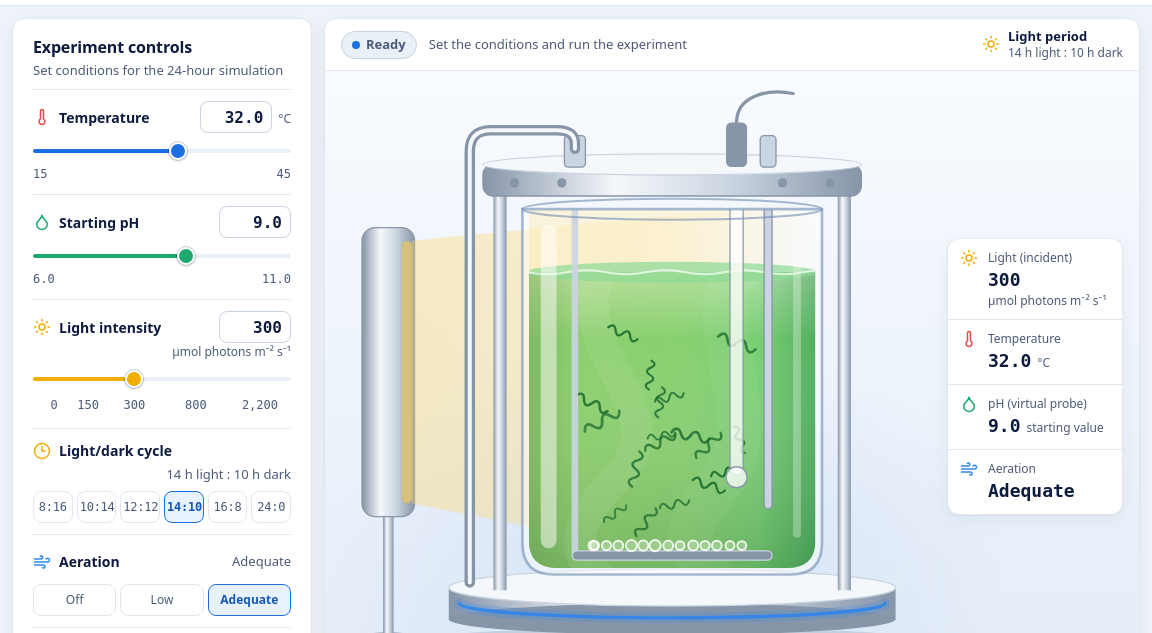
Test: experiment workspace (PRD-0002) › W4 Reset after completion returns to Ready and keeps the configured values (D-3)
Replace the text in the field named "Temperature value" with "45" at (236,117), box x1=200 y1=101 x2=272 y2=133
Then press Enter
(page scrolled)
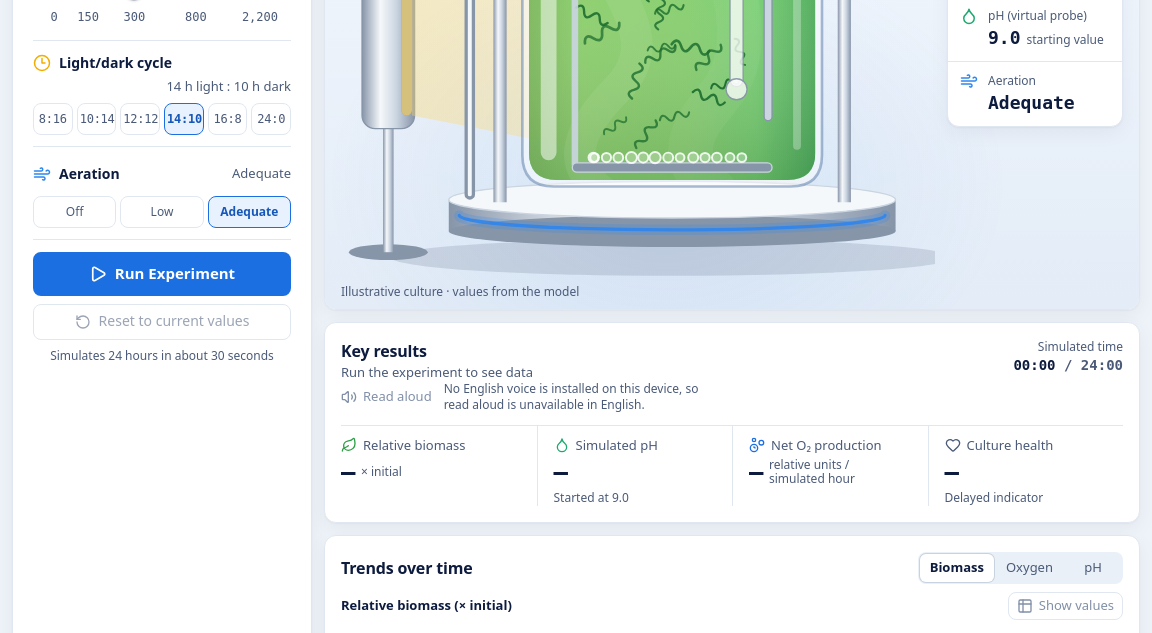
Click the button with test id "run-button".
click(162, 274)  # box x1=33 y1=252 x2=291 y2=296
Wait 30500 ms
(page scrolled)
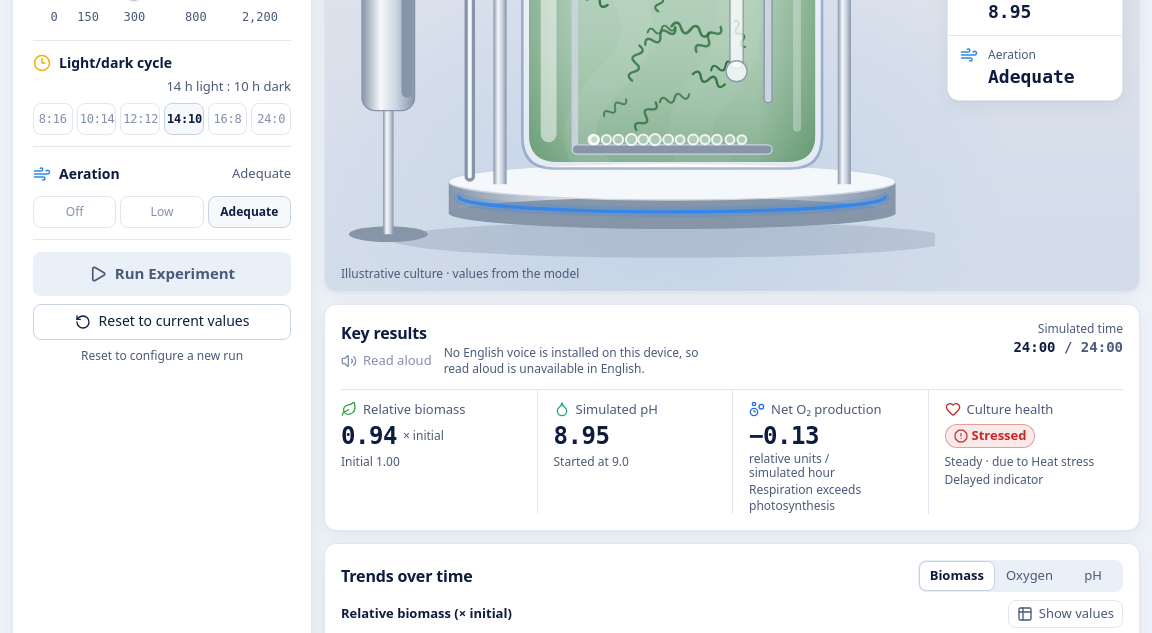
Click the button "Reset to current values".
click(162, 322)  # box x1=33 y1=304 x2=291 y2=340
(page scrolled)
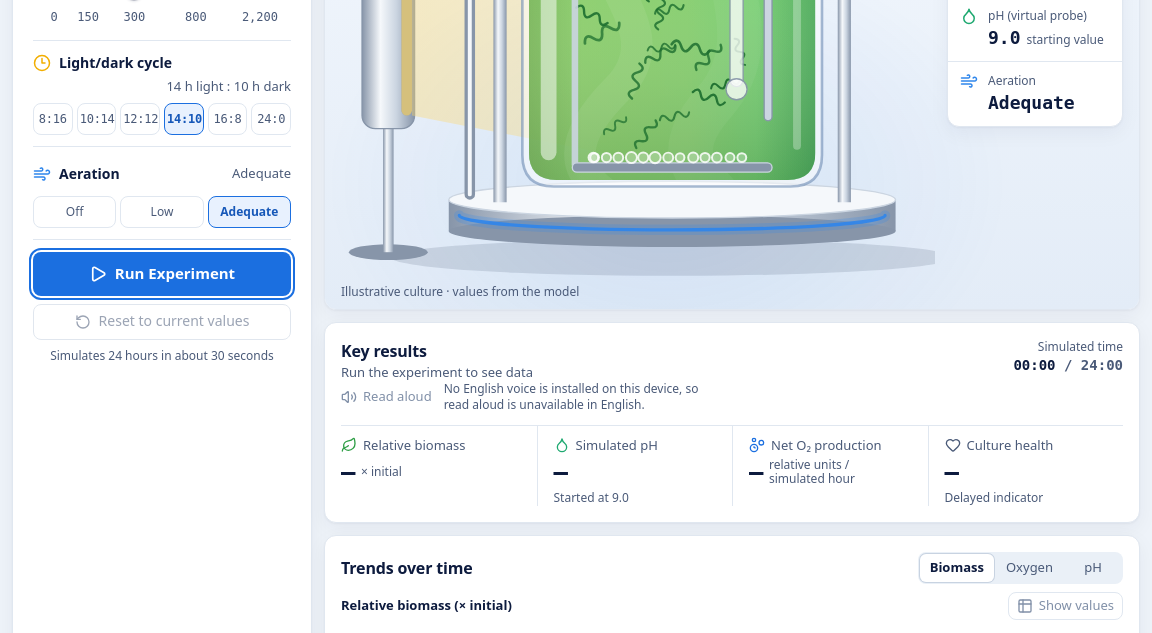
Expected: the button with test id "run-button" is enabled, x1=33 y1=252 x2=291 y2=296
